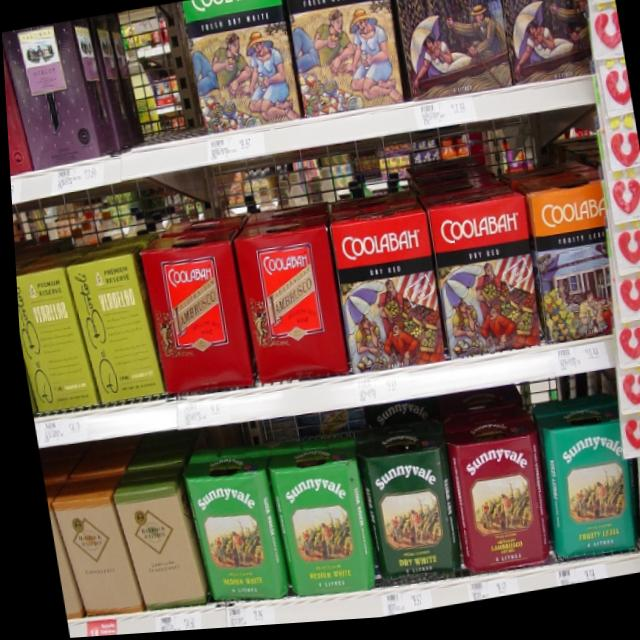q61: (324, 207, 449, 393), (425, 197, 546, 385)
